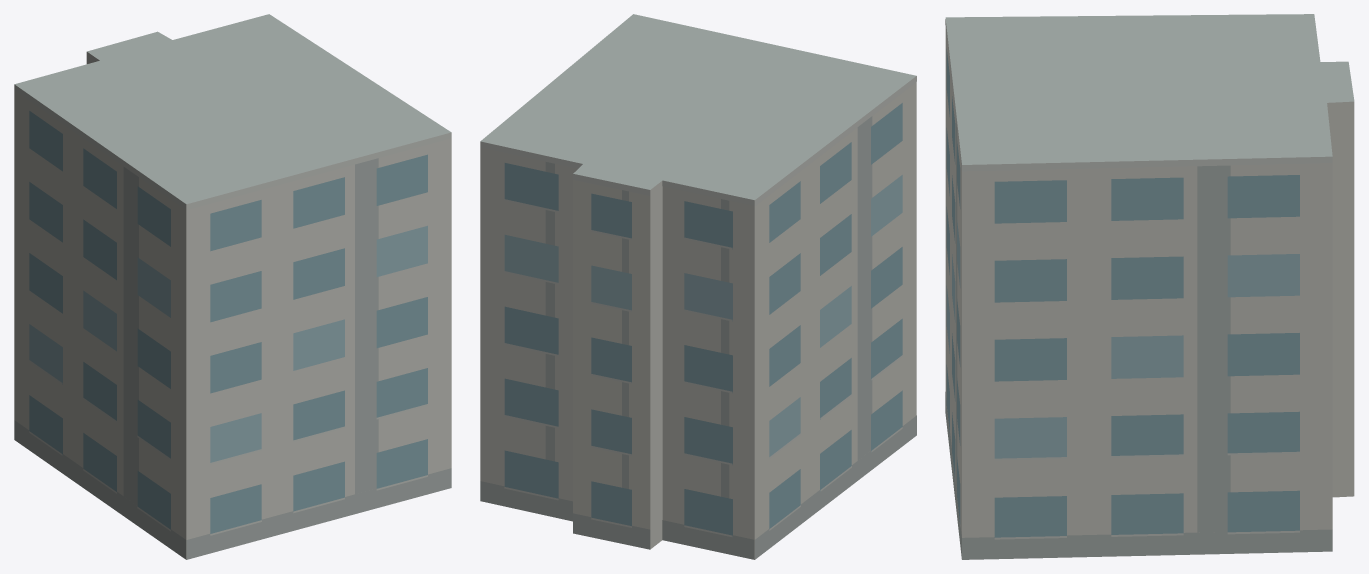
Rendered from survey-upis-32950787.glb.
3 views of the same model, side by side, from view 1: azimuth 30°, elevation 25°; view 2: azimuth 150°, elevation 25°; view 3: azimuth 270°, elevation 25° (orthographic). The views are drawn at different scales.
Parts seen in each view (by area): view 1: survey-upis-32950787.tmp; view 2: survey-upis-32950787.tmp; view 3: survey-upis-32950787.tmp.
Boxes of the visible parts, box(x1,y1,x2,y2) form: survey-upis-32950787.tmp: box(14, 14, 451, 559); survey-upis-32950787.tmp: box(480, 14, 916, 559); survey-upis-32950787.tmp: box(945, 14, 1354, 559).
Size of the model in its own units: 12.03 by 14.65 by 13.76.
